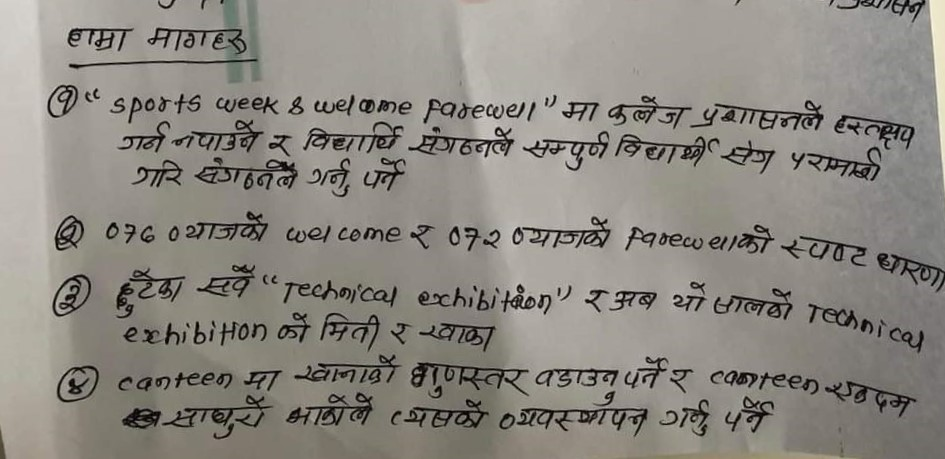text: (691, 98, 826, 135), (163, 394, 267, 442), (408, 357, 524, 400), (496, 404, 647, 437), (613, 129, 718, 171), (191, 156, 300, 193), (822, 375, 912, 419), (290, 353, 399, 389), (407, 124, 513, 160), (110, 269, 183, 321), (507, 215, 612, 251), (285, 390, 376, 431), (789, 146, 884, 185), (533, 363, 619, 406), (522, 131, 611, 172), (387, 397, 488, 433), (299, 119, 402, 154), (778, 235, 872, 271), (712, 286, 796, 326), (185, 208, 269, 247), (172, 118, 265, 153), (829, 112, 916, 149), (146, 26, 251, 56), (876, 250, 945, 294), (606, 94, 687, 131), (415, 318, 499, 353), (318, 310, 383, 353), (722, 393, 778, 436), (194, 264, 258, 301), (63, 23, 131, 56), (658, 397, 713, 436), (721, 140, 778, 176), (306, 156, 353, 199), (361, 155, 407, 195), (129, 159, 186, 191), (118, 120, 169, 155), (621, 356, 665, 395), (609, 287, 658, 315), (667, 281, 710, 312), (737, 224, 774, 258), (274, 311, 312, 344), (560, 99, 601, 125), (667, 364, 696, 397), (240, 369, 281, 392), (580, 287, 609, 319), (265, 129, 294, 158), (387, 319, 412, 349)
